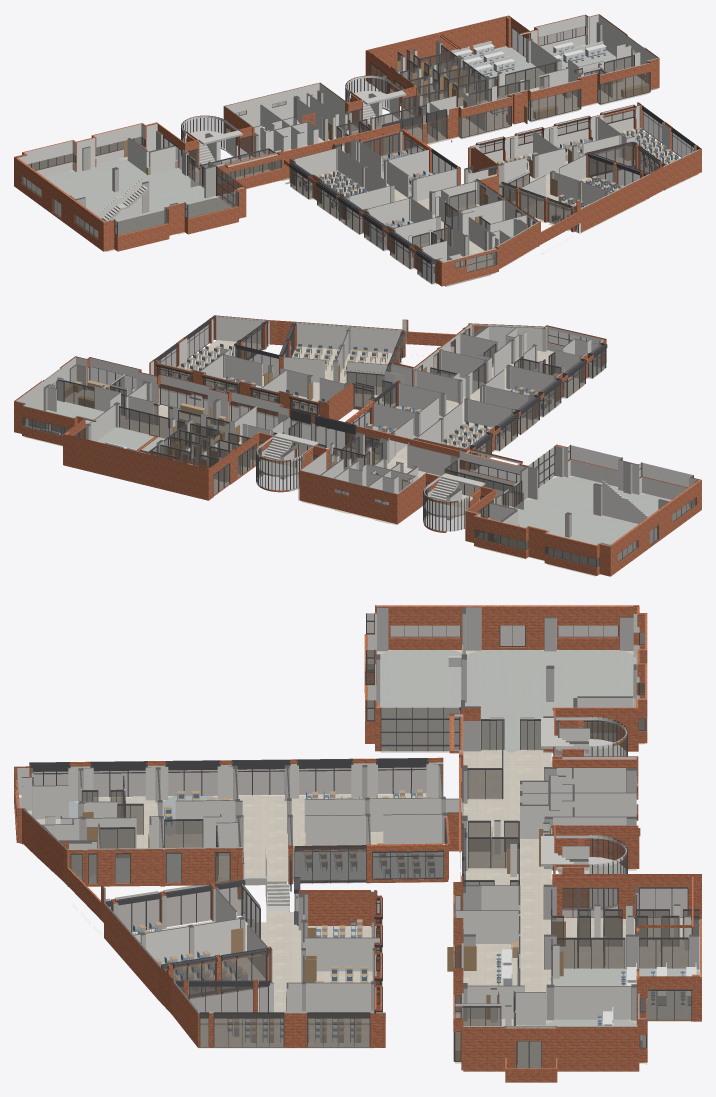
File: floor-2.glb
3 views of the same model, one above another, from view 1: azimuth 30°, elevation 25°; view 2: azimuth 150°, elevation 25°; view 3: azimuth 270°, elevation 25° (orthographic). The views are drawn at different scales.
Parts seen in each view (by area): view 1: P2_Fachada_Compartida, P2_B_Walls, P2_A_Walls, P2_A_Glass, P2_A_Floor_Zones, P2_B_Glass, P2_B_Floor_Slab, P2_A_Floor_Slab, P2_A_Columns, P2_B_Columns, P2_A_Glass_Mullions, P2_B_Glass_Mullions (+17 smaller); view 2: P2_Fachada_Compartida, P2_B_Walls, P2_A_Walls, P2_A_Glass, P2_A_Floor_Zones, P2_B_Glass, P2_B_Floor_Slab, P2_A_Columns, P2_A_Floor_Slab, P2_B_Columns, P2_A_Glass_Mullions, P2_B_Glass_Mullions (+21 smaller); view 3: P2_Fachada_Compartida, P2_B_Walls, P2_A_Floor_Zones, P2_B_Glass, P2_A_Walls, P2_A_Floor_Slab, P2_B_Floor_Slab, P2_A_Glass, P2_A_Columns, P2_A_Fachada_Oeste_Mamposteria, P2_B_Columns, P2_B_Floor_Zones (+18 smaller).
Part boxes in pixels (<box>): P2_Fachada_Compartida: <box>14,14,701,286</box>; P2_B_Walls: <box>295,118,635,282</box>; P2_A_Walls: <box>108,36,640,232</box>; P2_A_Glass: <box>164,28,633,187</box>; P2_A_Floor_Zones: <box>27,45,623,237</box>; P2_B_Glass: <box>291,134,658,283</box>; P2_B_Floor_Slab: <box>285,128,698,286</box>; P2_A_Floor_Slab: <box>28,45,648,251</box>; P2_A_Columns: <box>23,22,646,226</box>; P2_B_Columns: <box>292,116,623,264</box>; P2_A_Glass_Mullions: <box>163,27,634,186</box>; P2_B_Glass_Mullions: <box>290,133,655,283</box>; P2_Fachada_Compartida: <box>14,315,701,576</box>; P2_B_Walls: <box>200,317,600,457</box>; P2_A_Walls: <box>47,373,697,543</box>; P2_A_Glass: <box>57,378,521,518</box>; P2_A_Floor_Zones: <box>26,400,689,565</box>; P2_B_Glass: <box>236,325,605,469</box>; P2_B_Floor_Slab: <box>159,340,603,470</box>; P2_A_Columns: <box>43,364,699,547</box>; P2_A_Floor_Slab: <box>24,390,688,576</box>; P2_B_Columns: <box>220,325,600,468</box>; P2_A_Glass_Mullions: <box>63,379,522,517</box>; P2_B_Glass_Mullions: <box>235,324,606,469</box>; P2_Fachada_Compartida: <box>14,605,701,1082</box>; P2_B_Walls: <box>21,763,443,1012</box>; P2_A_Floor_Zones: <box>368,650,700,1067</box>; P2_B_Glass: <box>33,767,445,1012</box>; P2_A_Walls: <box>375,608,690,1025</box>; P2_A_Floor_Slab: <box>368,650,699,1064</box>; P2_B_Floor_Slab: <box>19,794,438,1048</box>; P2_A_Glass: <box>462,720,699,1025</box>; P2_A_Columns: <box>376,607,699,1020</box>; P2_A_Fachada_Oeste_Mamposteria: <box>388,619,619,649</box>; P2_B_Columns: <box>25,764,448,1011</box>; P2_B_Floor_Zones: <box>69,795,442,883</box>.
Size of the model in its own units: 79.06 by 5.59 by 53.17.
23 materials, 4 textured.
